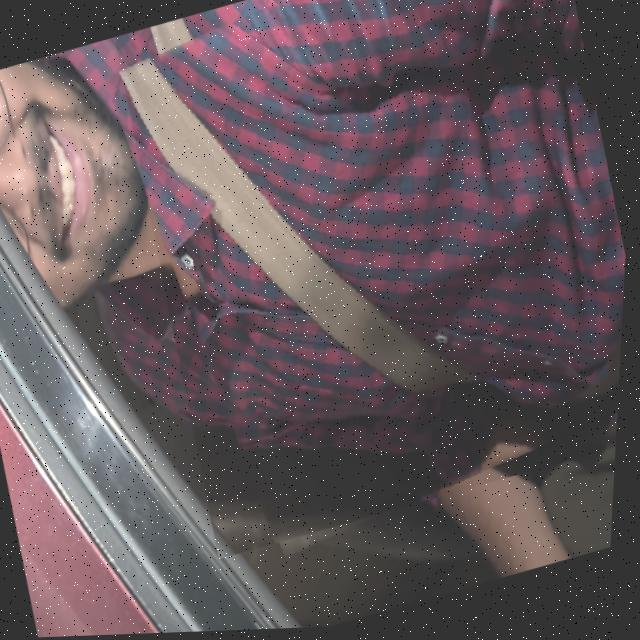seatbelt: (92, 0, 640, 565)
